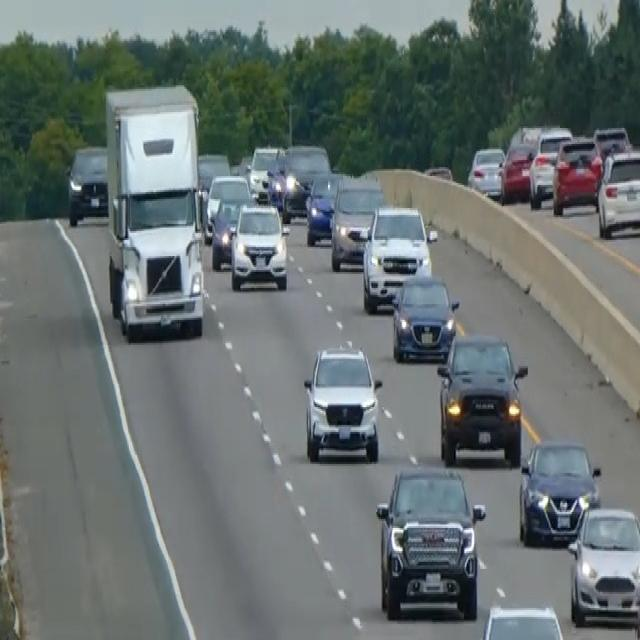car: (374, 460, 485, 620), (436, 329, 527, 466), (302, 341, 383, 464), (566, 502, 639, 630), (517, 436, 601, 546), (361, 203, 435, 313), (391, 268, 459, 362), (229, 199, 289, 292), (329, 178, 383, 272), (551, 133, 603, 215), (277, 142, 330, 220), (596, 146, 639, 238), (66, 142, 109, 226), (528, 126, 572, 208), (499, 122, 541, 202), (204, 170, 250, 242), (475, 603, 569, 638), (304, 169, 343, 245), (210, 198, 240, 270), (467, 144, 505, 199), (248, 142, 283, 201), (197, 149, 230, 194), (592, 123, 631, 160), (423, 162, 452, 181)
lorry: (103, 80, 205, 341)
